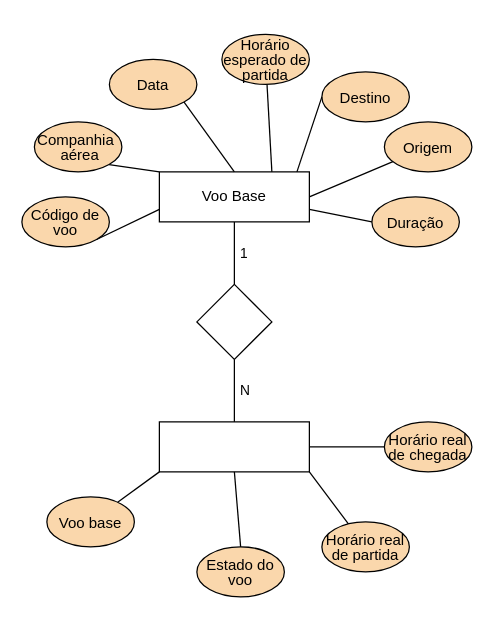
This 494x623 diagram has some shape labels left out. The shapes that lost their labels are listed below. From the top down, each one's centre as x and y in pixels, then its label:
At point (234, 321): "Tem".
At point (233, 446): "Voo Real".
